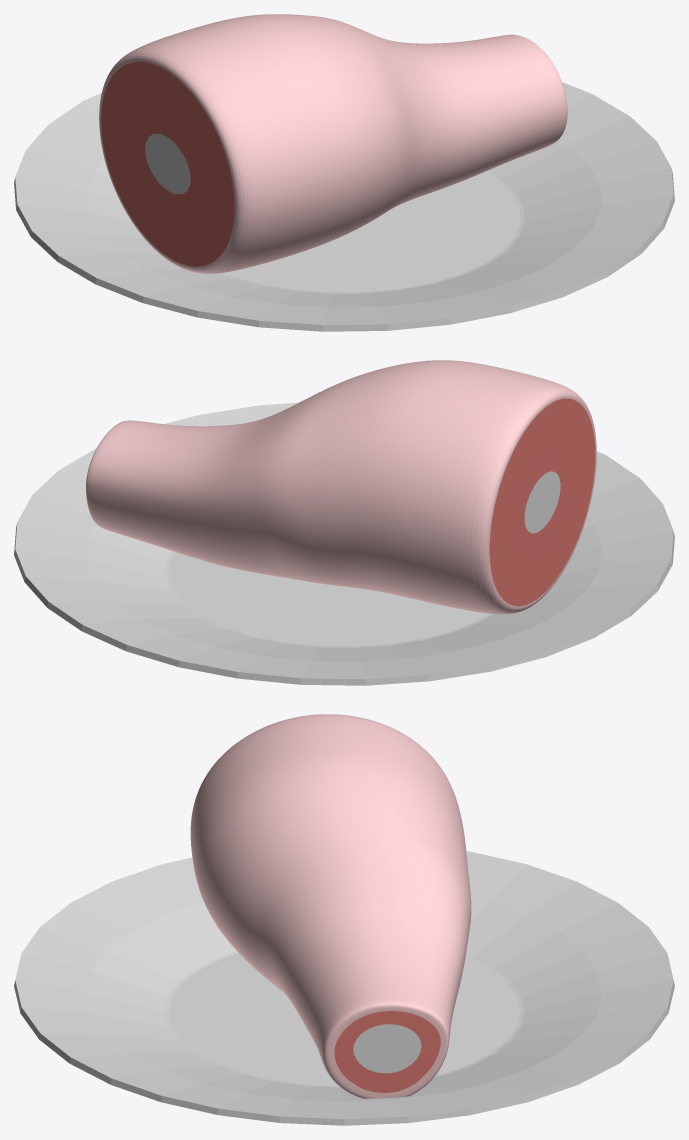
Rendered from raw_pork.fbx.
3 views of the same model, one above another, from view 1: azimuth 30°, elevation 25°; view 2: azimuth 150°, elevation 25°; view 3: azimuth 270°, elevation 25° (orthographic).
Parts seen in each view (by area): view 1: 돼지고기, 원형.021; view 2: 돼지고기, 원형.021; view 3: 원형.021, 돼지고기.
Boxes of the visible parts, x1=… form: 돼지고기: x1=99, y1=14, x2=567, y2=273; 원형.021: x1=14, y1=82, x2=674, y2=331; 돼지고기: x1=86, y1=360, x2=596, y2=614; 원형.021: x1=14, y1=402, x2=674, y2=685; 원형.021: x1=14, y1=851, x2=674, y2=1125; 돼지고기: x1=190, y1=714, x2=471, y2=1098.
Size of the model in its own units: 293 by 114 by 293.
